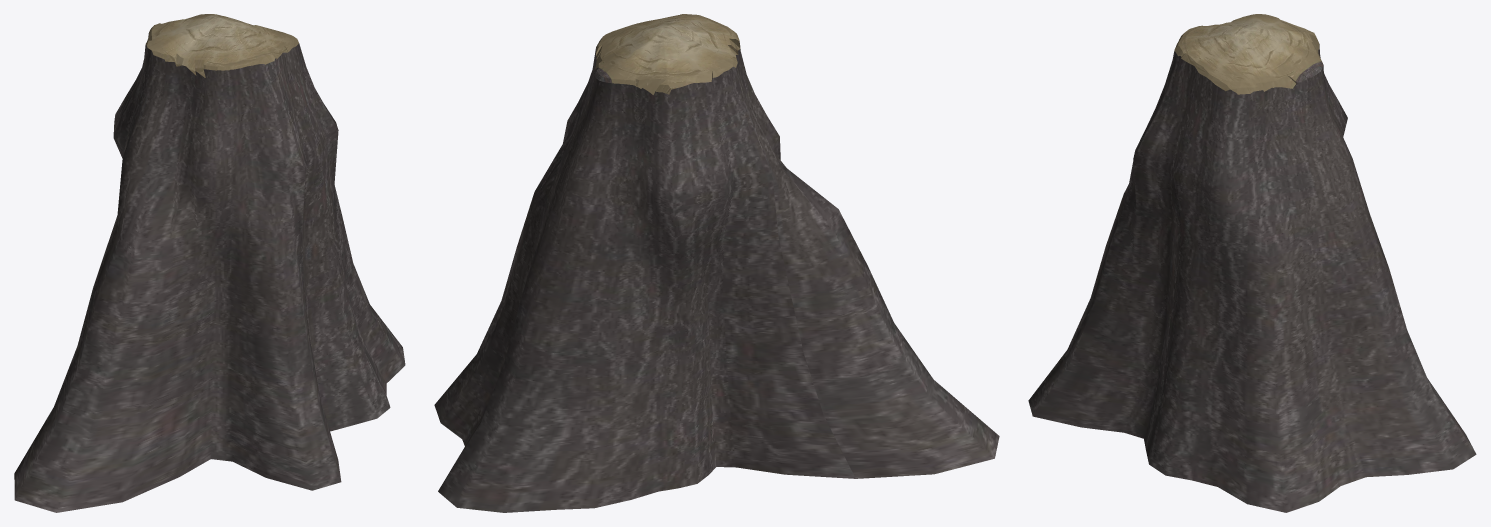
3 views of the same model, side by side, from view 1: azimuth 30°, elevation 25°; view 2: azimuth 150°, elevation 25°; view 3: azimuth 270°, elevation 25° (orthographic). The views are drawn at different scales.
Visible parts, largest first — view 1: SM_BM_Oak_Tree_02_quarter_01_LOD0; view 2: SM_BM_Oak_Tree_02_quarter_01_LOD0; view 3: SM_BM_Oak_Tree_02_quarter_01_LOD0.
Boxes of the visible parts, x1,y1,x2,y2 form: SM_BM_Oak_Tree_02_quarter_01_LOD0: [14, 14, 405, 512]; SM_BM_Oak_Tree_02_quarter_01_LOD0: [434, 14, 999, 512]; SM_BM_Oak_Tree_02_quarter_01_LOD0: [1028, 14, 1476, 512].
Size of the model in its own units: 3.81 by 3.09 by 3.25.
